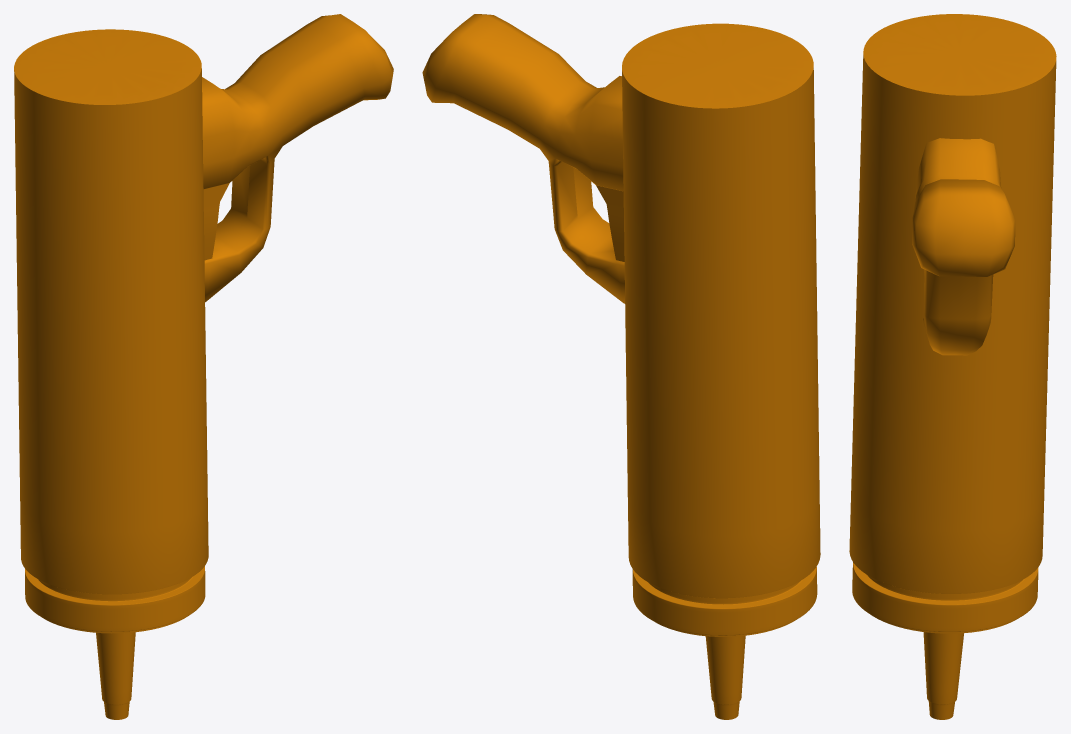
File: mustard gun.FBX
The picture shows the model from 3 angles, left to right: view 1: azimuth 30°, elevation 25°; view 2: azimuth 150°, elevation 25°; view 3: azimuth 270°, elevation 25°; orthographic projection. The views are drawn at different scales.
Visible parts, largest first — view 1: mustard gun; view 2: mustard gun; view 3: mustard gun.
Boxes of the visible parts, bbox=[...] form: mustard gun: bbox=[14, 14, 393, 719]; mustard gun: bbox=[422, 14, 820, 719]; mustard gun: bbox=[849, 14, 1056, 719].
Size of the model in its own units: 53.69 by 93.02 by 26.33.
